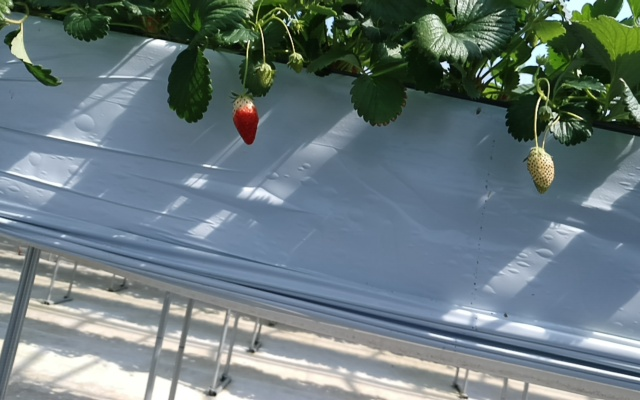GreenStrawberry: (526, 146, 555, 194)
MatureStrawberry: (230, 94, 261, 147)
